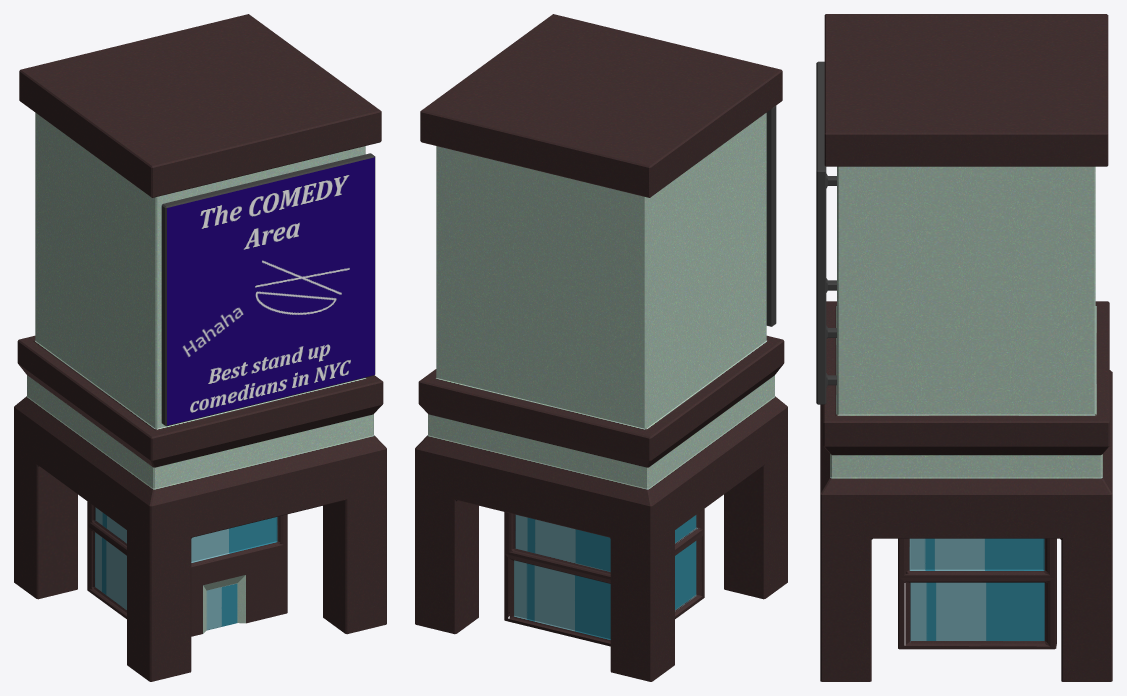
3 views of the same model, side by side, from view 1: azimuth 30°, elevation 25°; view 2: azimuth 150°, elevation 25°; view 3: azimuth 270°, elevation 25° (orthographic). The views are drawn at different scales.
Parts seen in each view (by area): view 1: TS5; view 2: TS5; view 3: TS5.
Part boxes in pixels (x1,y1,x2,y2): TS5: (14,14,386,681); TS5: (415,14,787,681); TS5: (816,14,1112,681).
Size of the model in its own units: 2000 by 4132 by 2027.
1 material, 1 textured.
